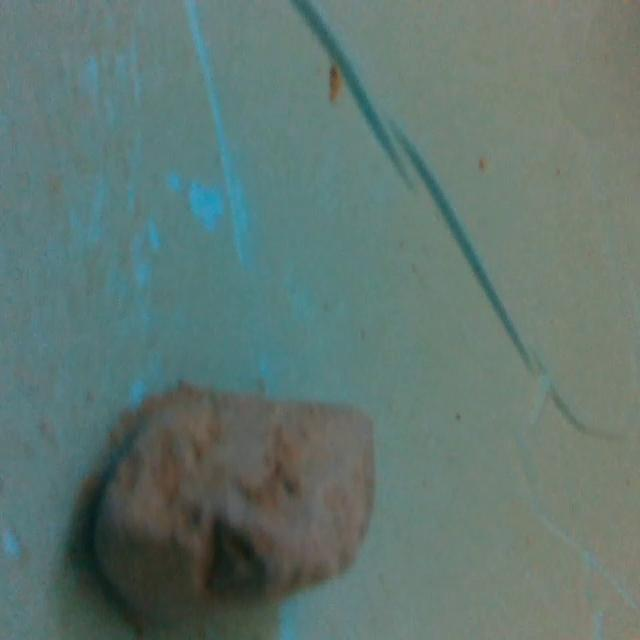rock: (82, 383, 378, 636)
